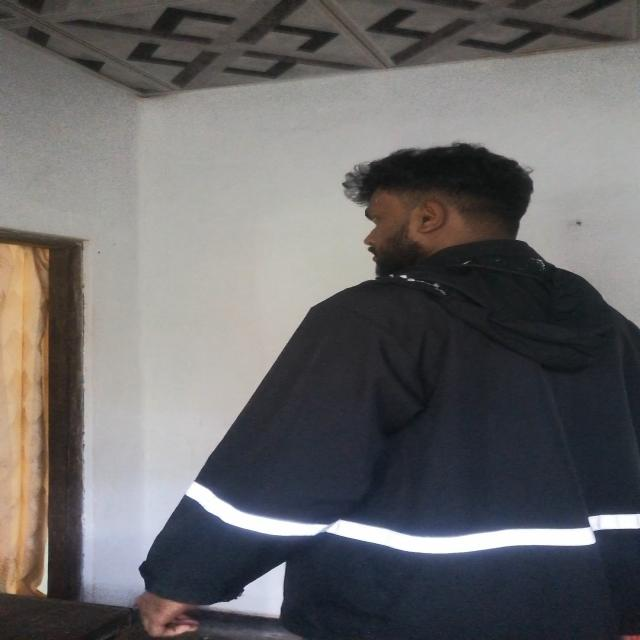Jacket_Wearer: (164, 252, 640, 614)
